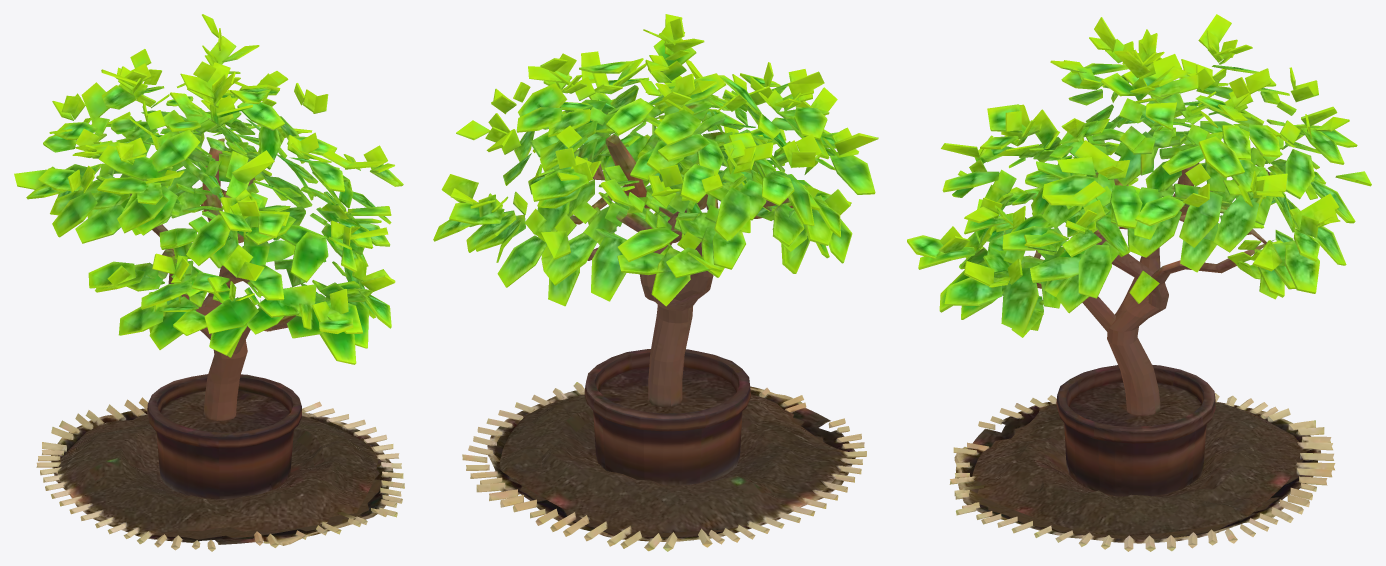
The model's file is Meshy_AI_tree_in_a_pot_0602023358_texture.glb.
3 views of the same model, side by side, from view 1: azimuth 30°, elevation 25°; view 2: azimuth 150°, elevation 25°; view 3: azimuth 270°, elevation 25° (orthographic). The views are drawn at different scales.
Size of the model in its own units: 1.46 by 1.87 by 1.79.
1 material, 1 textured.
